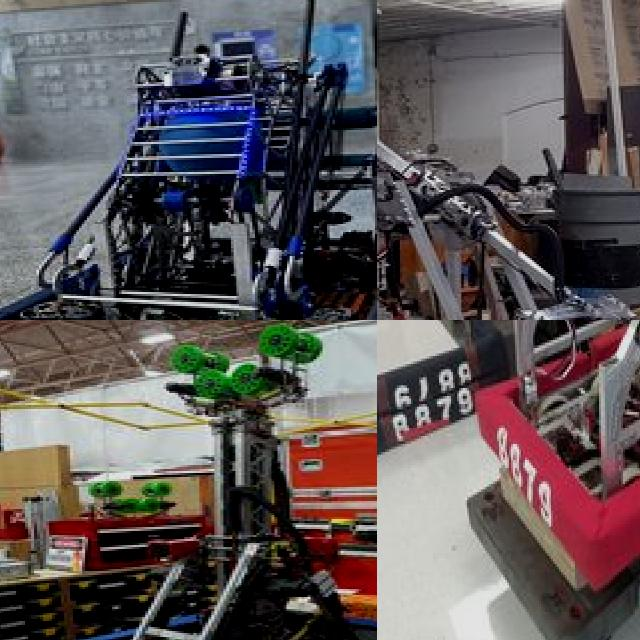FRC-Robots: (0, 0, 377, 320), (37, 320, 377, 640), (377, 50, 640, 320), (472, 320, 640, 561)
